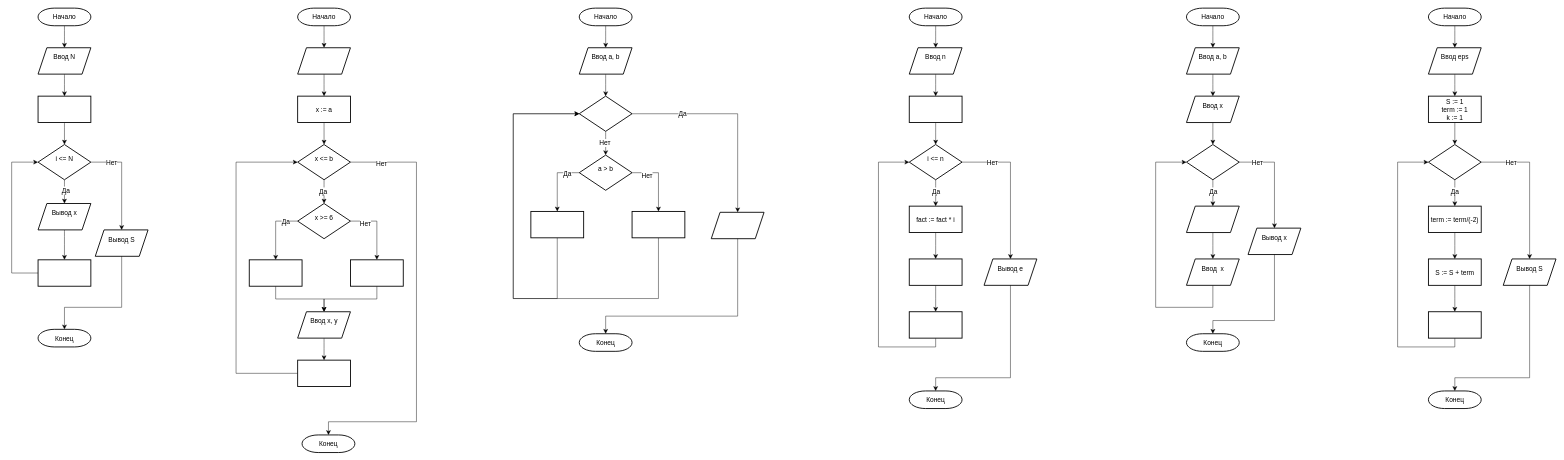
Image size: 1564x460. Some labels were removed from this diagram. The centre of each missing label's shape, as x and y in pixels:
"Повторите ввод": the point at 1212,219
a := a - b: the point at 557,224
a = b: the point at 605,113
b := b - a: the point at 658,224
e := e + 1/fact: the point at 935,272
e:=0 i:=2 fact := 1: the point at 935,109
i := i+1: the point at 935,324
k := k + 1: the point at 1454,324
S:= S+x i:=1+1: the point at 64,272
S:=0 i:=1: the point at 64,109
x := x+h: the point at 324,373
x < a или x > b: the point at 1212,162
y := 3 cos(𝑥) − 2: the point at 376,272
y := −2 sin(𝑥) + 4: the point at 275,272
|term| < eps: the point at 1454,162
Ввод a, b, h: the point at 324,60
Вывод a: the point at 737,225
